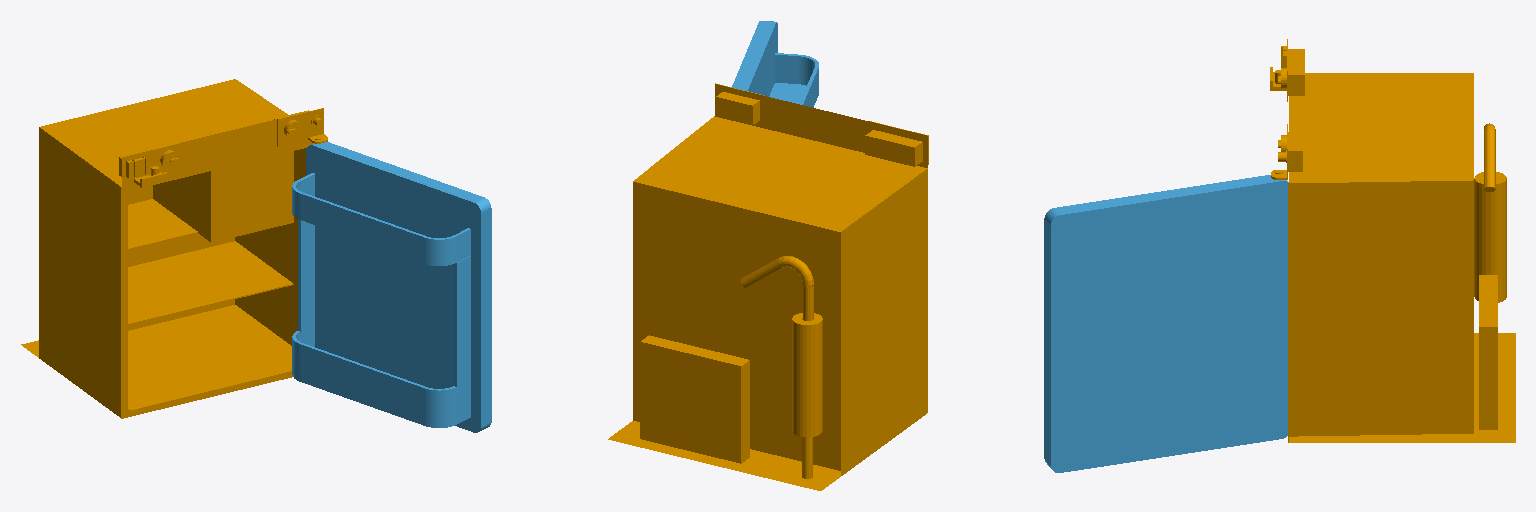
robot.urdf — fridge_10905:
<?xml version="1.0"?>
<robot name="fridge_10905">
  <link name="base_link">
    <inertial>
      <origin xyz="0 0 0" rpy="0 0 0"/>
      <mass value="1"/>
      <inertia ixx="0.001" ixy="0" ixz="0" iyy="0.001" iyz="0" izz="0.001"/>
    </inertial>
    <visual>
      <origin xyz="0 0 0" rpy="0 0 0"/>
      <geometry>
        <mesh filename="meshes/base_link.obj" scale="1 1 1"/>
      </geometry>
    </visual>
    <collision>
      <origin xyz="0 0 0" rpy="0 0 0"/>
      <geometry>
        <mesh filename="meshes/base_link.obj" scale="1 1 1"/>
      </geometry>
    </collision>
  </link>
  <link name="moving_link">
    <inertial>
      <origin xyz="0 0 0" rpy="0 0 0"/>
      <mass value="1"/>
      <inertia ixx="0.001" ixy="0" ixz="0" iyy="0.001" iyz="0" izz="0.001"/>
    </inertial>
    <visual>
      <origin xyz="-0.2269176667 0.1669124355 -0.456948" rpy="0 0 0"/>
      <geometry>
        <mesh filename="meshes/moving_link.obj" scale="1 1 1"/>
      </geometry>
    </visual>
    <collision>
      <origin xyz="-0.2269176667 0.1669124355 -0.456948" rpy="0 0 0"/>
      <geometry>
        <mesh filename="meshes/moving_link.obj" scale="1 1 1"/>
      </geometry>
    </collision>
  </link>
  <joint name="fridge_10905_joint" type="revolute">
    <parent link="base_link"/>
    <child link="moving_link"/>
    <origin xyz="0.2269176667 -0.1669124355 0.456948" rpy="0 0 0"/>
    <axis xyz="0 0 1"/>
    <limit lower="-1.0471975512" upper="0" effort="100" velocity="10"/>
  </joint>
</robot>

--- What the picture shows (computed from the rendered views, not written in the file) ---
The picture shows the robot from 3 angles, left to right: view 1: azimuth 30°, elevation 25°; view 2: azimuth 150°, elevation 25°; view 3: azimuth 270°, elevation 25°; orthographic projection.
Robot: fridge_10905 — 2 links, 1 joints (1 revolute); root link base_link; default pose: every joint at zero.
Visible links, largest first — view 1: base_link, moving_link; view 2: base_link, moving_link; view 3: base_link, moving_link.
Link boxes in pixels (box(x1,y1,x2,y2)): base_link: box(21, 79, 327, 418); moving_link: box(292, 142, 491, 432); base_link: box(608, 83, 928, 490); moving_link: box(732, 21, 818, 107); base_link: box(1270, 39, 1515, 442); moving_link: box(1044, 175, 1288, 472).
Size in the robot's own frame: 0.9811 by 1.35 by 0.9306 metres.
2 mesh visuals loaded from 2 distinct referenced files (2 OBJ).
